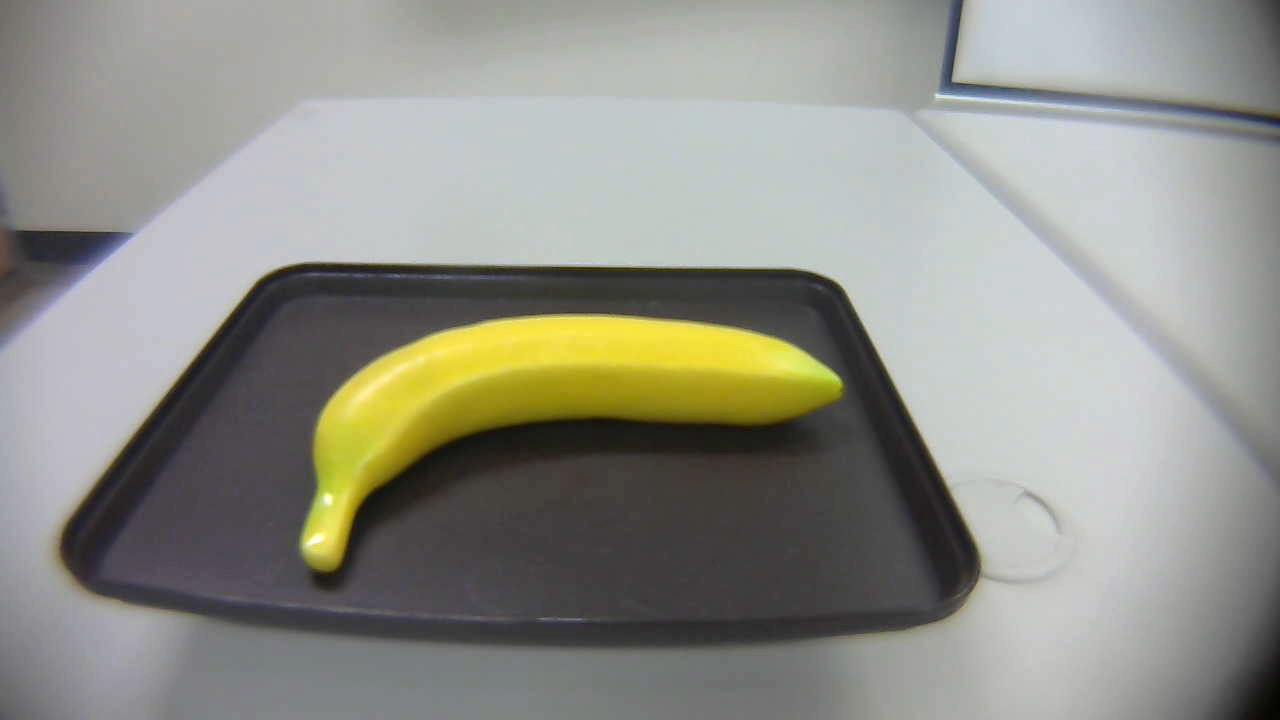banana: (272, 288, 876, 588)
